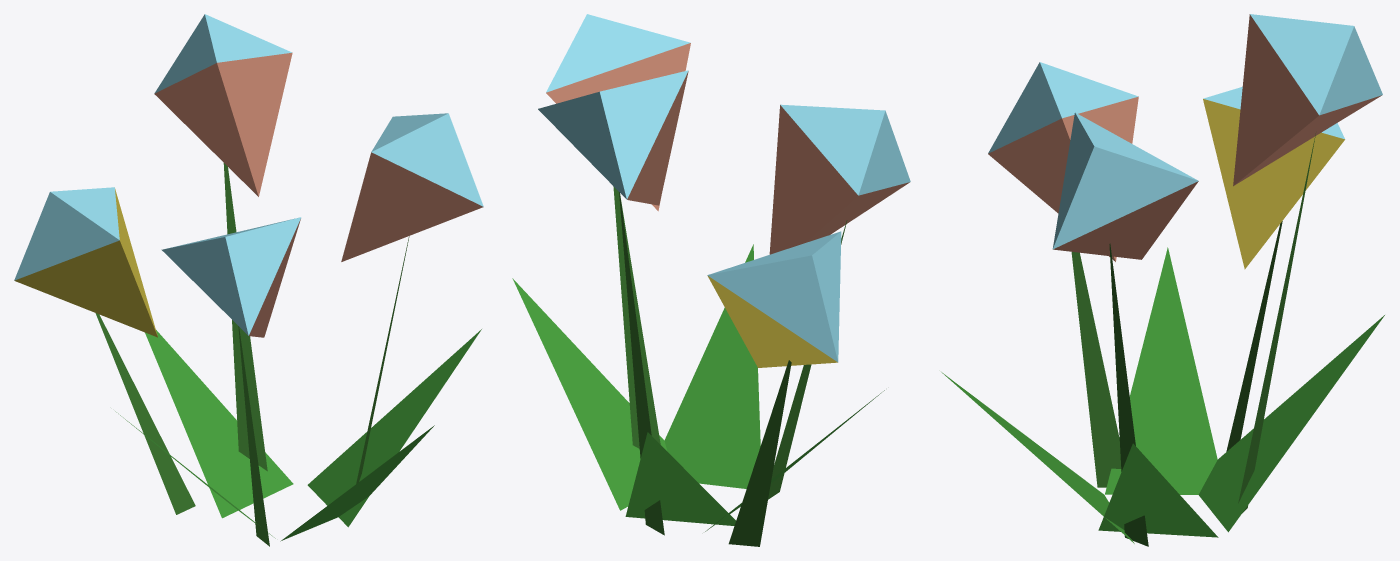
Rendered from plant_tinctoria_b.obj.
The picture shows the model from 3 angles, left to right: view 1: azimuth 30°, elevation 25°; view 2: azimuth 150°, elevation 25°; view 3: azimuth 270°, elevation 25°; orthographic projection. The views are drawn at different scales.
Visible parts, largest first — view 1: plant_tinctoria_b_8, plant_tinctoria_b_13, plant_tinctoria_b_1, plant_tinctoria_b_5, plant_tinctoria_b_11, plant_tinctoria_b_12, plant_tinctoria_b_10, plant_tinctoria_b_4, plant_tinctoria_b_7, plant_tinctoria_b_6, plant_tinctoria_b_9, plant_tinctoria_b_15 (+3 smaller); view 2: plant_tinctoria_b_15, plant_tinctoria_b_10, plant_tinctoria_b_7, plant_tinctoria_b_2, plant_tinctoria_b_12, plant_tinctoria_b_1, plant_tinctoria_b_13, plant_tinctoria_b_4, plant_tinctoria_b_11, plant_tinctoria_b_9, plant_tinctoria_b_5, plant_tinctoria_b_3 (+3 smaller); view 3: plant_tinctoria_b_14, plant_tinctoria_b_4, plant_tinctoria_b_8, plant_tinctoria_b_11, plant_tinctoria_b_7, plant_tinctoria_b_13, plant_tinctoria_b_2, plant_tinctoria_b_12, plant_tinctoria_b_1, plant_tinctoria_b_0, plant_tinctoria_b_5, plant_tinctoria_b_3 (+4 smaller).
Boxes of the visible parts, left/top/right/bottom form: plant_tinctoria_b_8: left=154, top=52, right=292, bottom=196; plant_tinctoria_b_13: left=145, top=330, right=293, bottom=518; plant_tinctoria_b_1: left=161, top=217, right=301, bottom=335; plant_tinctoria_b_5: left=341, top=152, right=483, bottom=261; plant_tinctoria_b_11: left=14, top=189, right=157, bottom=337; plant_tinctoria_b_12: left=307, top=329, right=481, bottom=527; plant_tinctoria_b_10: left=14, top=187, right=119, bottom=280; plant_tinctoria_b_4: left=371, top=113, right=483, bottom=206; plant_tinctoria_b_7: left=154, top=14, right=291, bottom=93; plant_tinctoria_b_6: left=223, top=163, right=267, bottom=471; plant_tinctoria_b_9: left=95, top=313, right=195, bottom=514; plant_tinctoria_b_15: left=280, top=425, right=434, bottom=541; plant_tinctoria_b_15: left=664, top=244, right=760, bottom=488; plant_tinctoria_b_10: left=707, top=231, right=841, bottom=362; plant_tinctoria_b_7: left=538, top=70, right=688, bottom=199; plant_tinctoria_b_2: left=769, top=105, right=909, bottom=254; plant_tinctoria_b_12: left=512, top=278, right=666, bottom=510; plant_tinctoria_b_1: left=780, top=104, right=910, bottom=195; plant_tinctoria_b_13: left=625, top=432, right=735, bottom=525; plant_tinctoria_b_4: left=546, top=14, right=690, bottom=92; plant_tinctoria_b_11: left=707, top=275, right=837, bottom=367; plant_tinctoria_b_9: left=728, top=360, right=791, bottom=546; plant_tinctoria_b_5: left=546, top=43, right=690, bottom=211; plant_tinctoria_b_3: left=613, top=186, right=660, bottom=448; plant_tinctoria_b_14: left=1105, top=247, right=1217, bottom=494; plant_tinctoria_b_4: left=1052, top=112, right=1198, bottom=249; plant_tinctoria_b_8: left=1233, top=14, right=1381, bottom=186; plant_tinctoria_b_11: left=1203, top=99, right=1344, bottom=269; plant_tinctoria_b_7: left=1250, top=14, right=1382, bottom=115; plant_tinctoria_b_13: left=1198, top=315, right=1384, bottom=532; plant_tinctoria_b_2: left=988, top=96, right=1138, bottom=261; plant_tinctoria_b_12: left=1098, top=443, right=1218, bottom=537; plant_tinctoria_b_1: left=988, top=62, right=1138, bottom=153; plant_tinctoria_b_0: left=1071, top=252, right=1121, bottom=487; plant_tinctoria_b_5: left=1053, top=181, right=1198, bottom=259; plant_tinctoria_b_3: left=1109, top=243, right=1148, bottom=546.
Bounding box in the file's own units: 0.5299 × 0.5778 × 0.4788.
